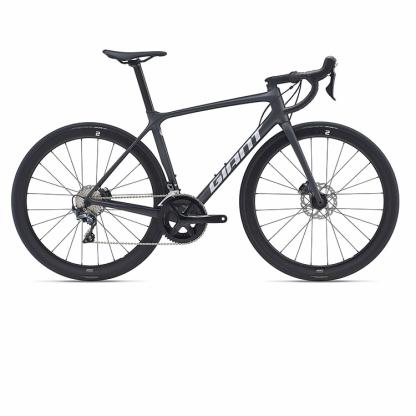Bike: (12, 47, 402, 283)
